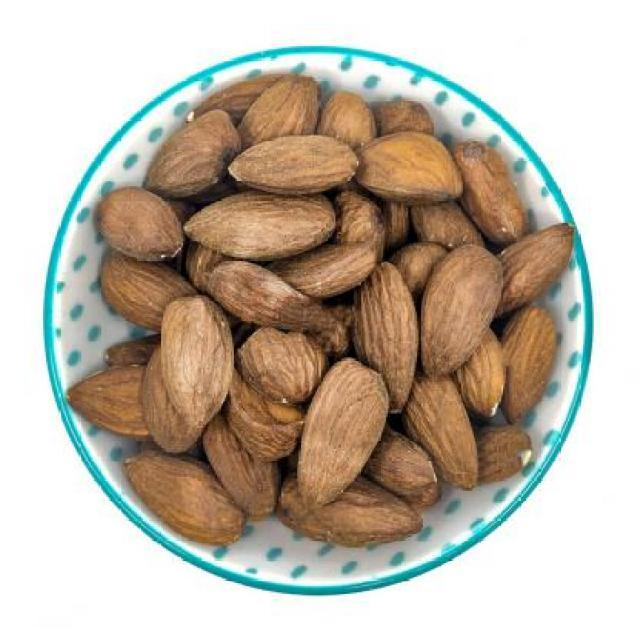Frutta secca: (82, 75, 568, 553)
